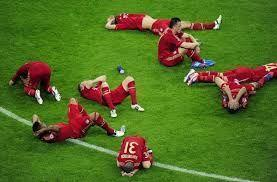Fall-Detected: (184, 51, 275, 92)
